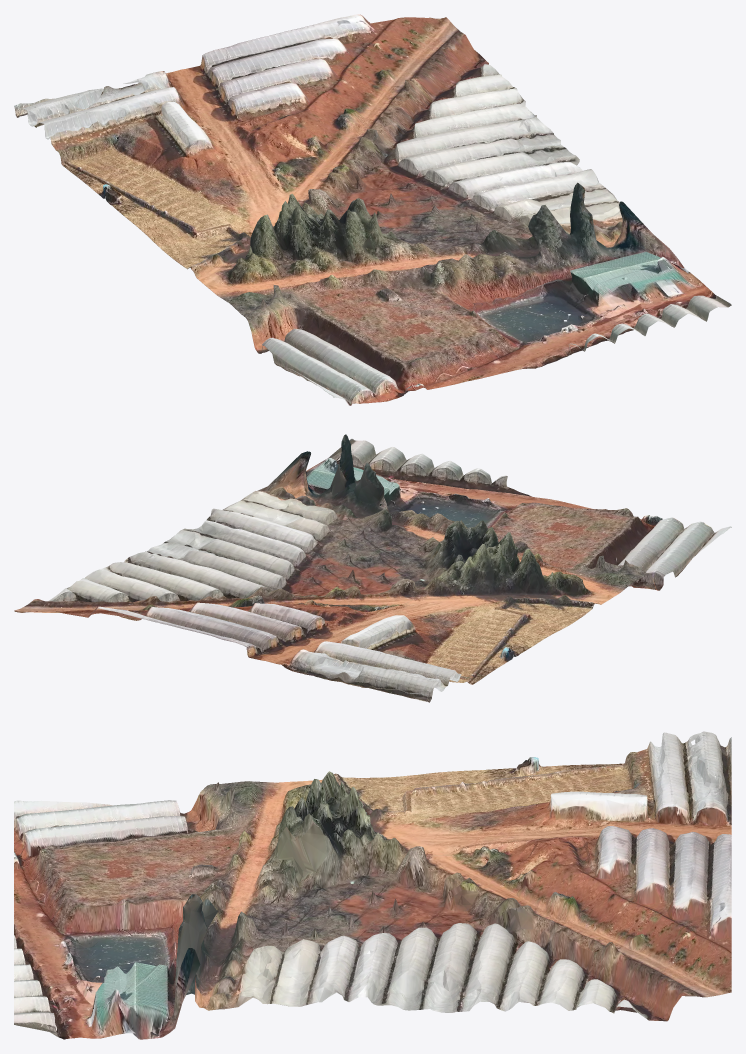
File: BlockBB_L19_74.glb
The picture shows the model from 3 angles, top to bottom: view 1: azimuth 30°, elevation 25°; view 2: azimuth 150°, elevation 25°; view 3: azimuth 270°, elevation 25°; orthographic projection. The views are drawn at different scales.
Parts seen in each view (by area): view 1: rtc; view 2: rtc; view 3: rtc.
Part boxes in pixels (left/top/right/bottom): rtc: left=14, top=14, right=731, bottom=405; rtc: left=14, top=434, right=731, bottom=702; rtc: left=14, top=731, right=731, bottom=1039.
Size of the model in its own units: 79.32 by 16.85 by 99.93.
4 materials, 4 textured.
